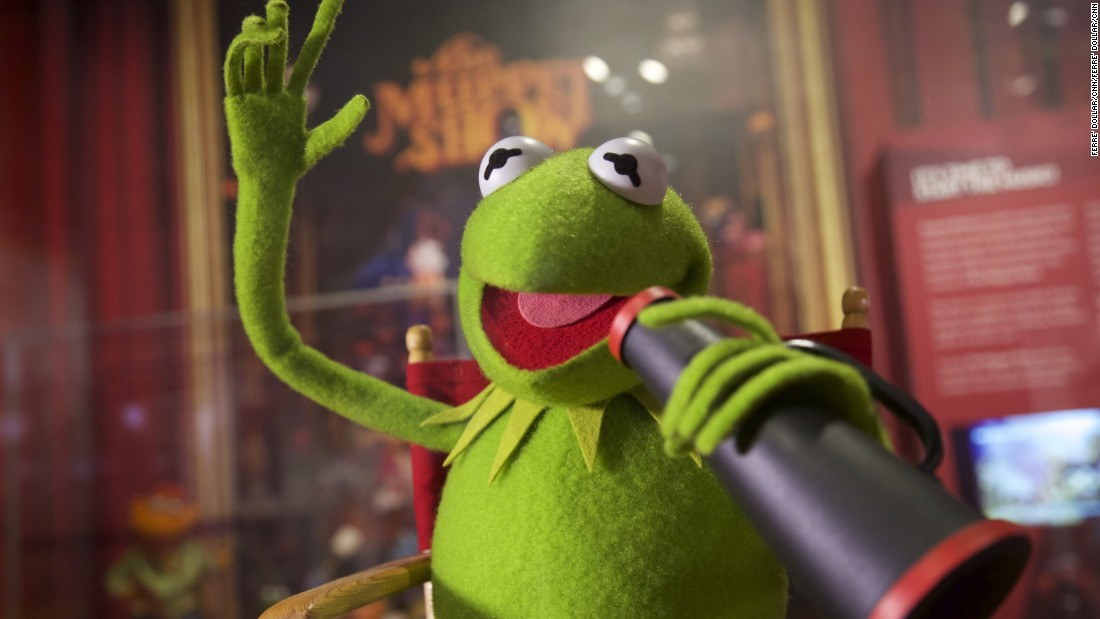kermit: (459, 127, 717, 415)
